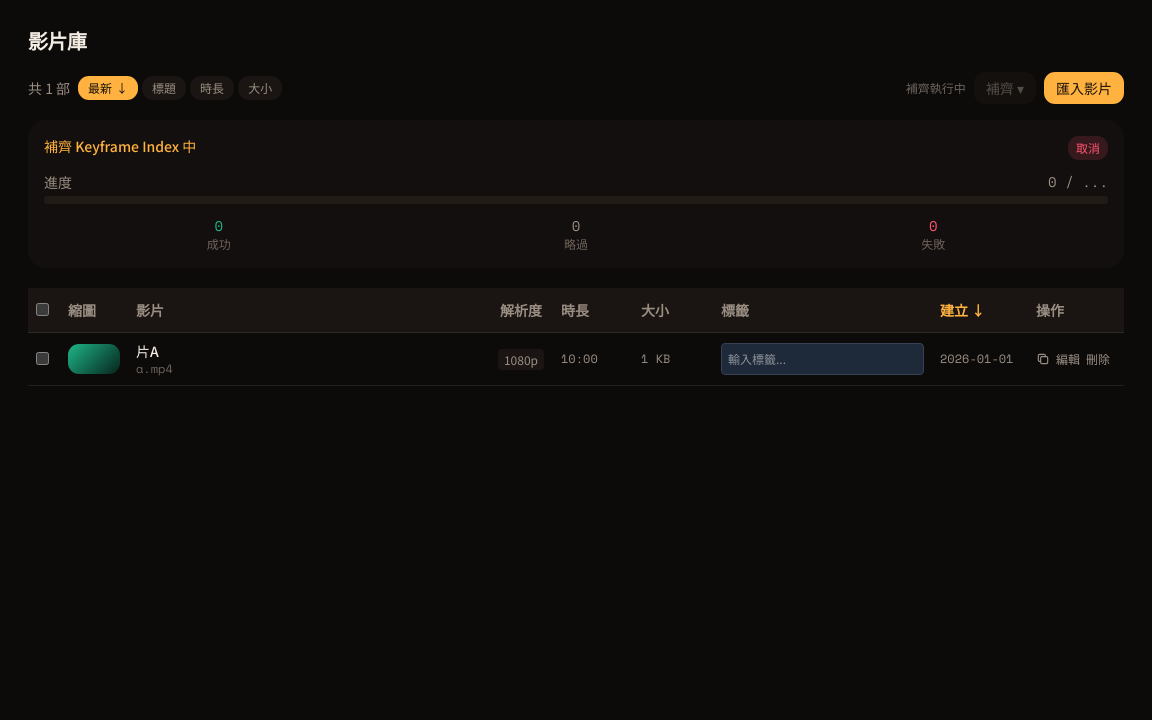
Test: VideoManagePage (library) › disables 開始匯入 while a Backfill holds the Media Lane
This screenshot has width=1152, height=720.
Expected: the text "補齊 Keyframe Index 中" is shown, [44,136,196,156]
Click the button "匯入影片" at (1084, 88), box [1044,72,1124,104]
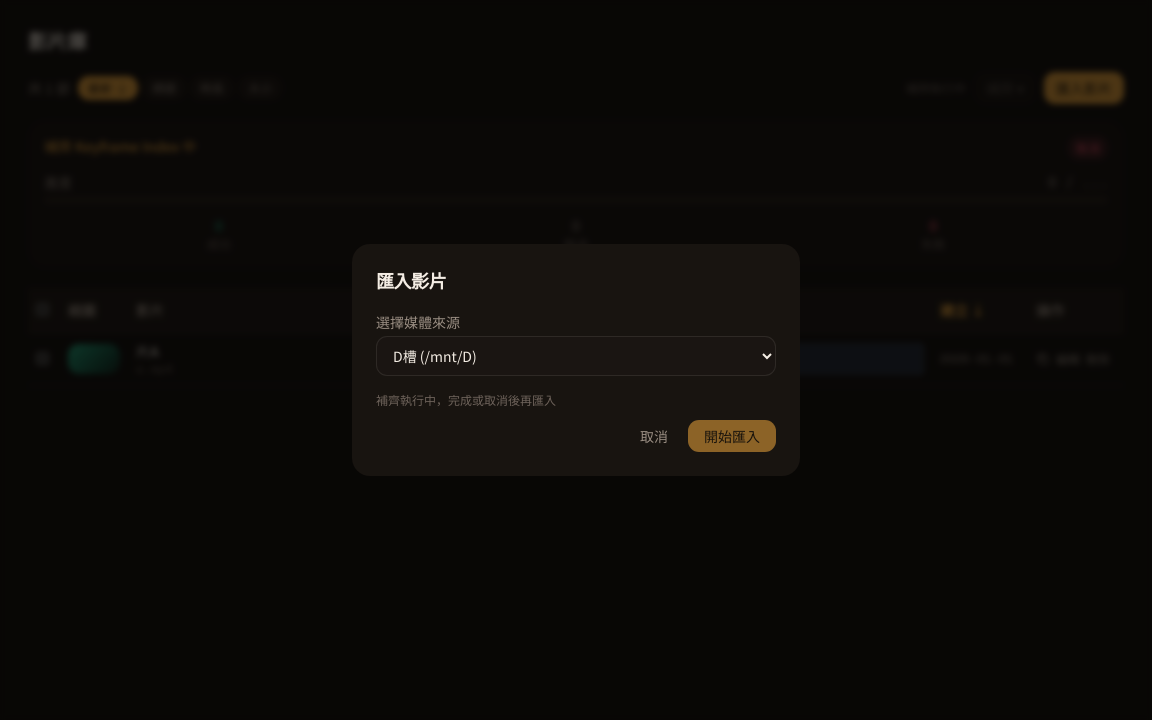
Expected: the button "開始匯入" is disabled, [688,420,776,452]
Expected: the text "補齊執行中，完成或取消後再匯入" is shown, [376,391,556,408]
